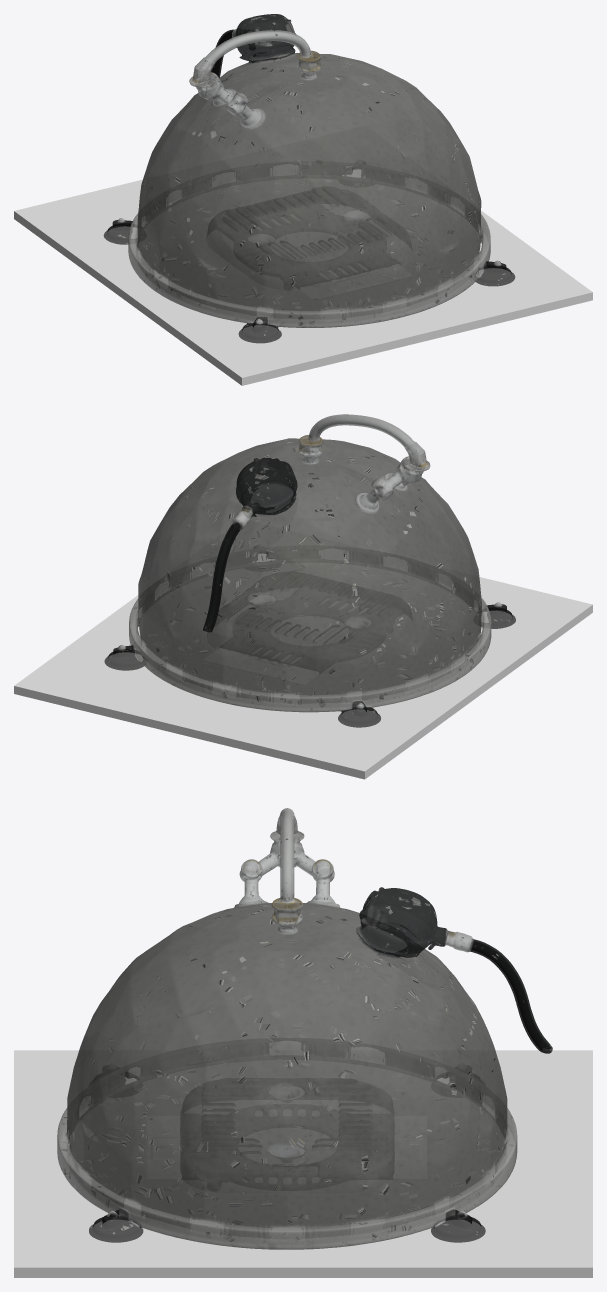
The model's file is SWACHHSHEILD.glb.
The picture shows the model from 3 angles, top to bottom: view 1: azimuth 30°, elevation 25°; view 2: azimuth 150°, elevation 25°; view 3: azimuth 270°, elevation 25°; orthographic projection. The views are drawn at different scales.
Visible parts, largest first — view 1: Mesh_0.001, Cube, Mesh_0; view 2: Mesh_0.001, Cube, Mesh_0; view 3: Mesh_0.001, Cube, Mesh_0.
Boxes of the visible parts, left/top/right/bottom form: Mesh_0.001: left=104, top=45, right=515, bottom=343; Cube: left=14, top=169, right=592, bottom=385; Mesh_0: left=105, top=14, right=514, bottom=343; Mesh_0.001: left=104, top=438, right=515, bottom=727; Cube: left=14, top=553, right=592, bottom=779; Mesh_0: left=106, top=414, right=515, bottom=726; Mesh_0.001: left=57, top=862, right=547, bottom=1249; Cube: left=14, top=1050, right=592, bottom=1277; Mesh_0: left=57, top=808, right=552, bottom=1249.
Bounding box in the file's own units: 7.68 × 5.14 × 8.64.
1 material, 1 textured.
